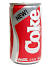coke: (24, 8, 40, 56)
